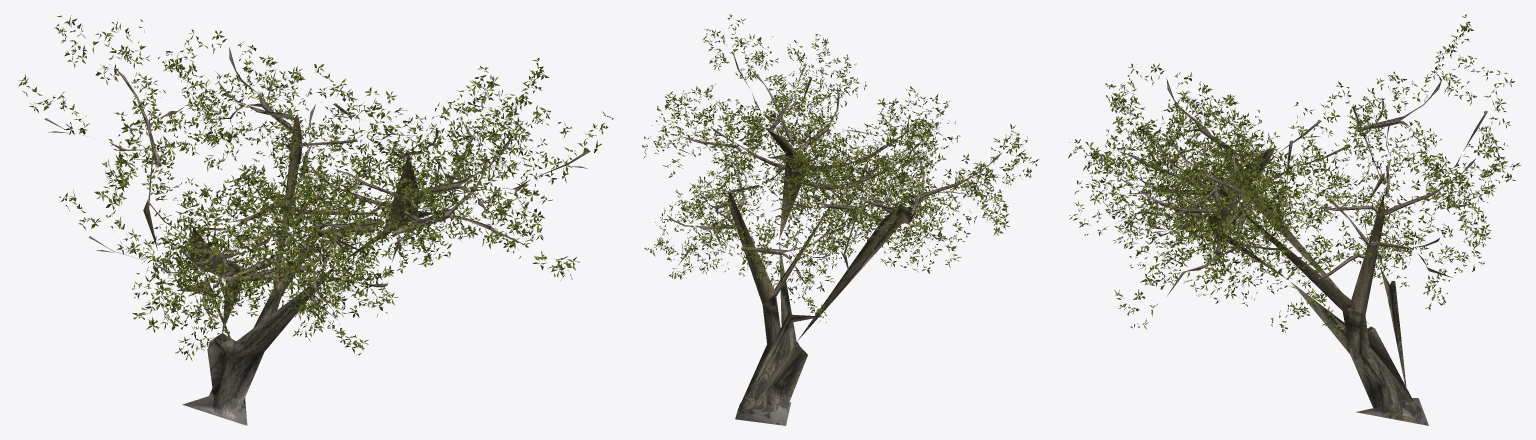
Rendered from island_tree_02_far.glb.
The picture shows the model from 3 angles, left to right: view 1: azimuth 30°, elevation 25°; view 2: azimuth 150°, elevation 25°; view 3: azimuth 270°, elevation 25°; orthographic projection. The views are drawn at different scales.
Visible parts, largest first — view 1: island_tree_02_LOD0; view 2: island_tree_02_LOD0; view 3: island_tree_02_LOD0.
Boxes of the visible parts, x1,y1,x2,y2 form: island_tree_02_LOD0: [18, 15, 613, 425]; island_tree_02_LOD0: [642, 14, 1038, 425]; island_tree_02_LOD0: [1068, 14, 1520, 425].
Size of the model in its own units: 3.82 by 3.4 by 4.04.
Materials: 3 (3 with a texture image).
